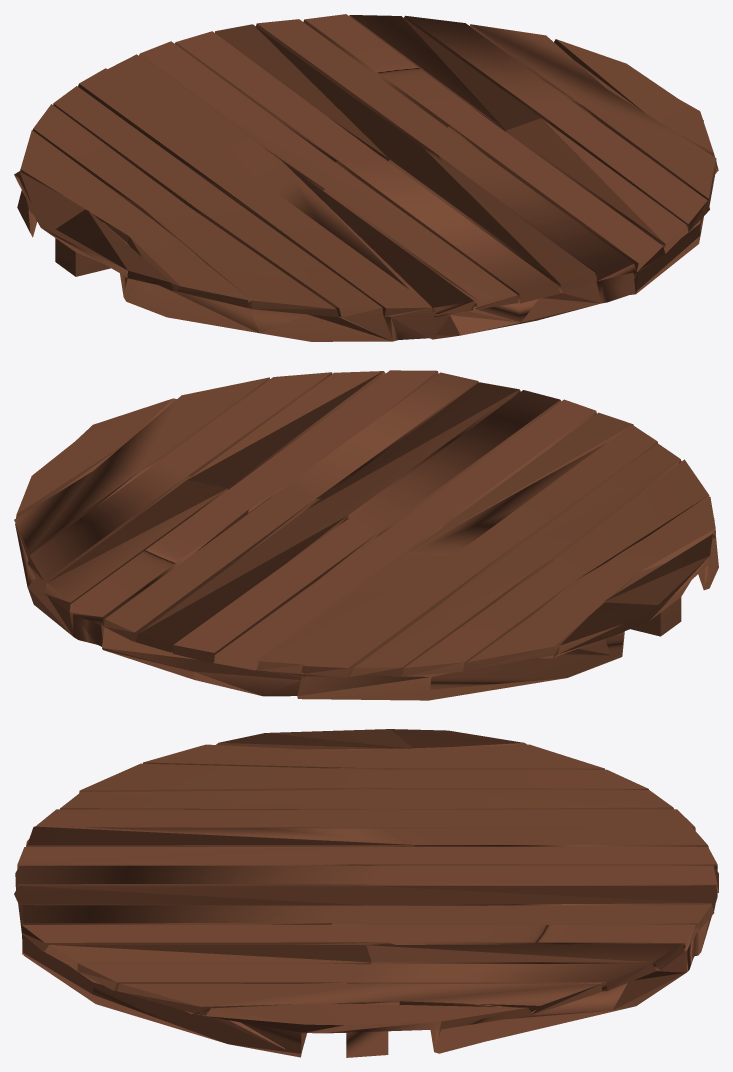
File: wooden foor round.fbx
3 renders of one model, top to bottom at view 1: azimuth 30°, elevation 25°; view 2: azimuth 150°, elevation 25°; view 3: azimuth 270°, elevation 25°, orthographic.
Parts seen in each view (by area): view 1: floor2_2; view 2: floor2_2; view 3: floor2_2.
Part boxes in pixels (<box>): floor2_2: <box>14,14,718,341</box>; floor2_2: <box>14,370,718,700</box>; floor2_2: <box>14,729,718,1057</box>.
Bounding box in the file's own units: 310 × 16.68 × 308.
Materials: 1 (1 with a texture image).
